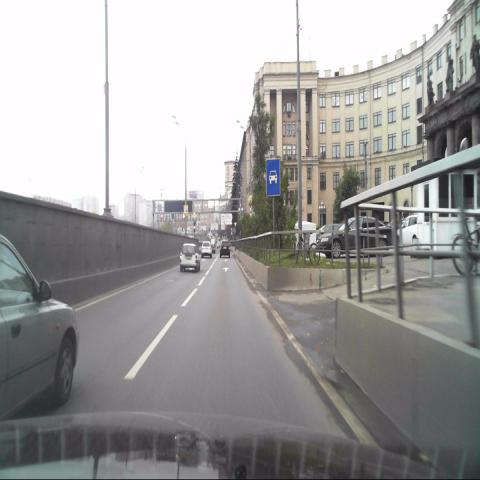5_3: (266, 160, 280, 196)
